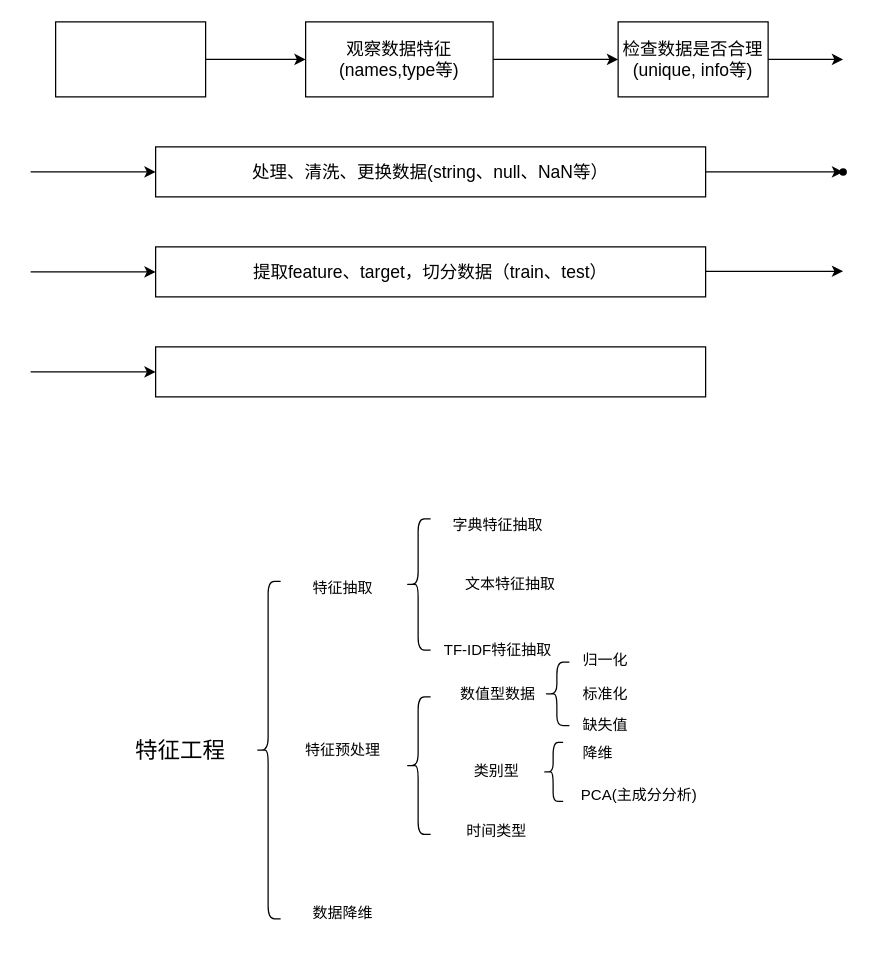
The diagram is 890 pixels wide and 965 high, and some of its shapes have lost their labels. Each missing label, with the box of its shape:
导入数据: (54, 21, 206, 97)
预测分析，测量平均/均方误差，精确率召回率考察: (154, 346, 706, 397)
